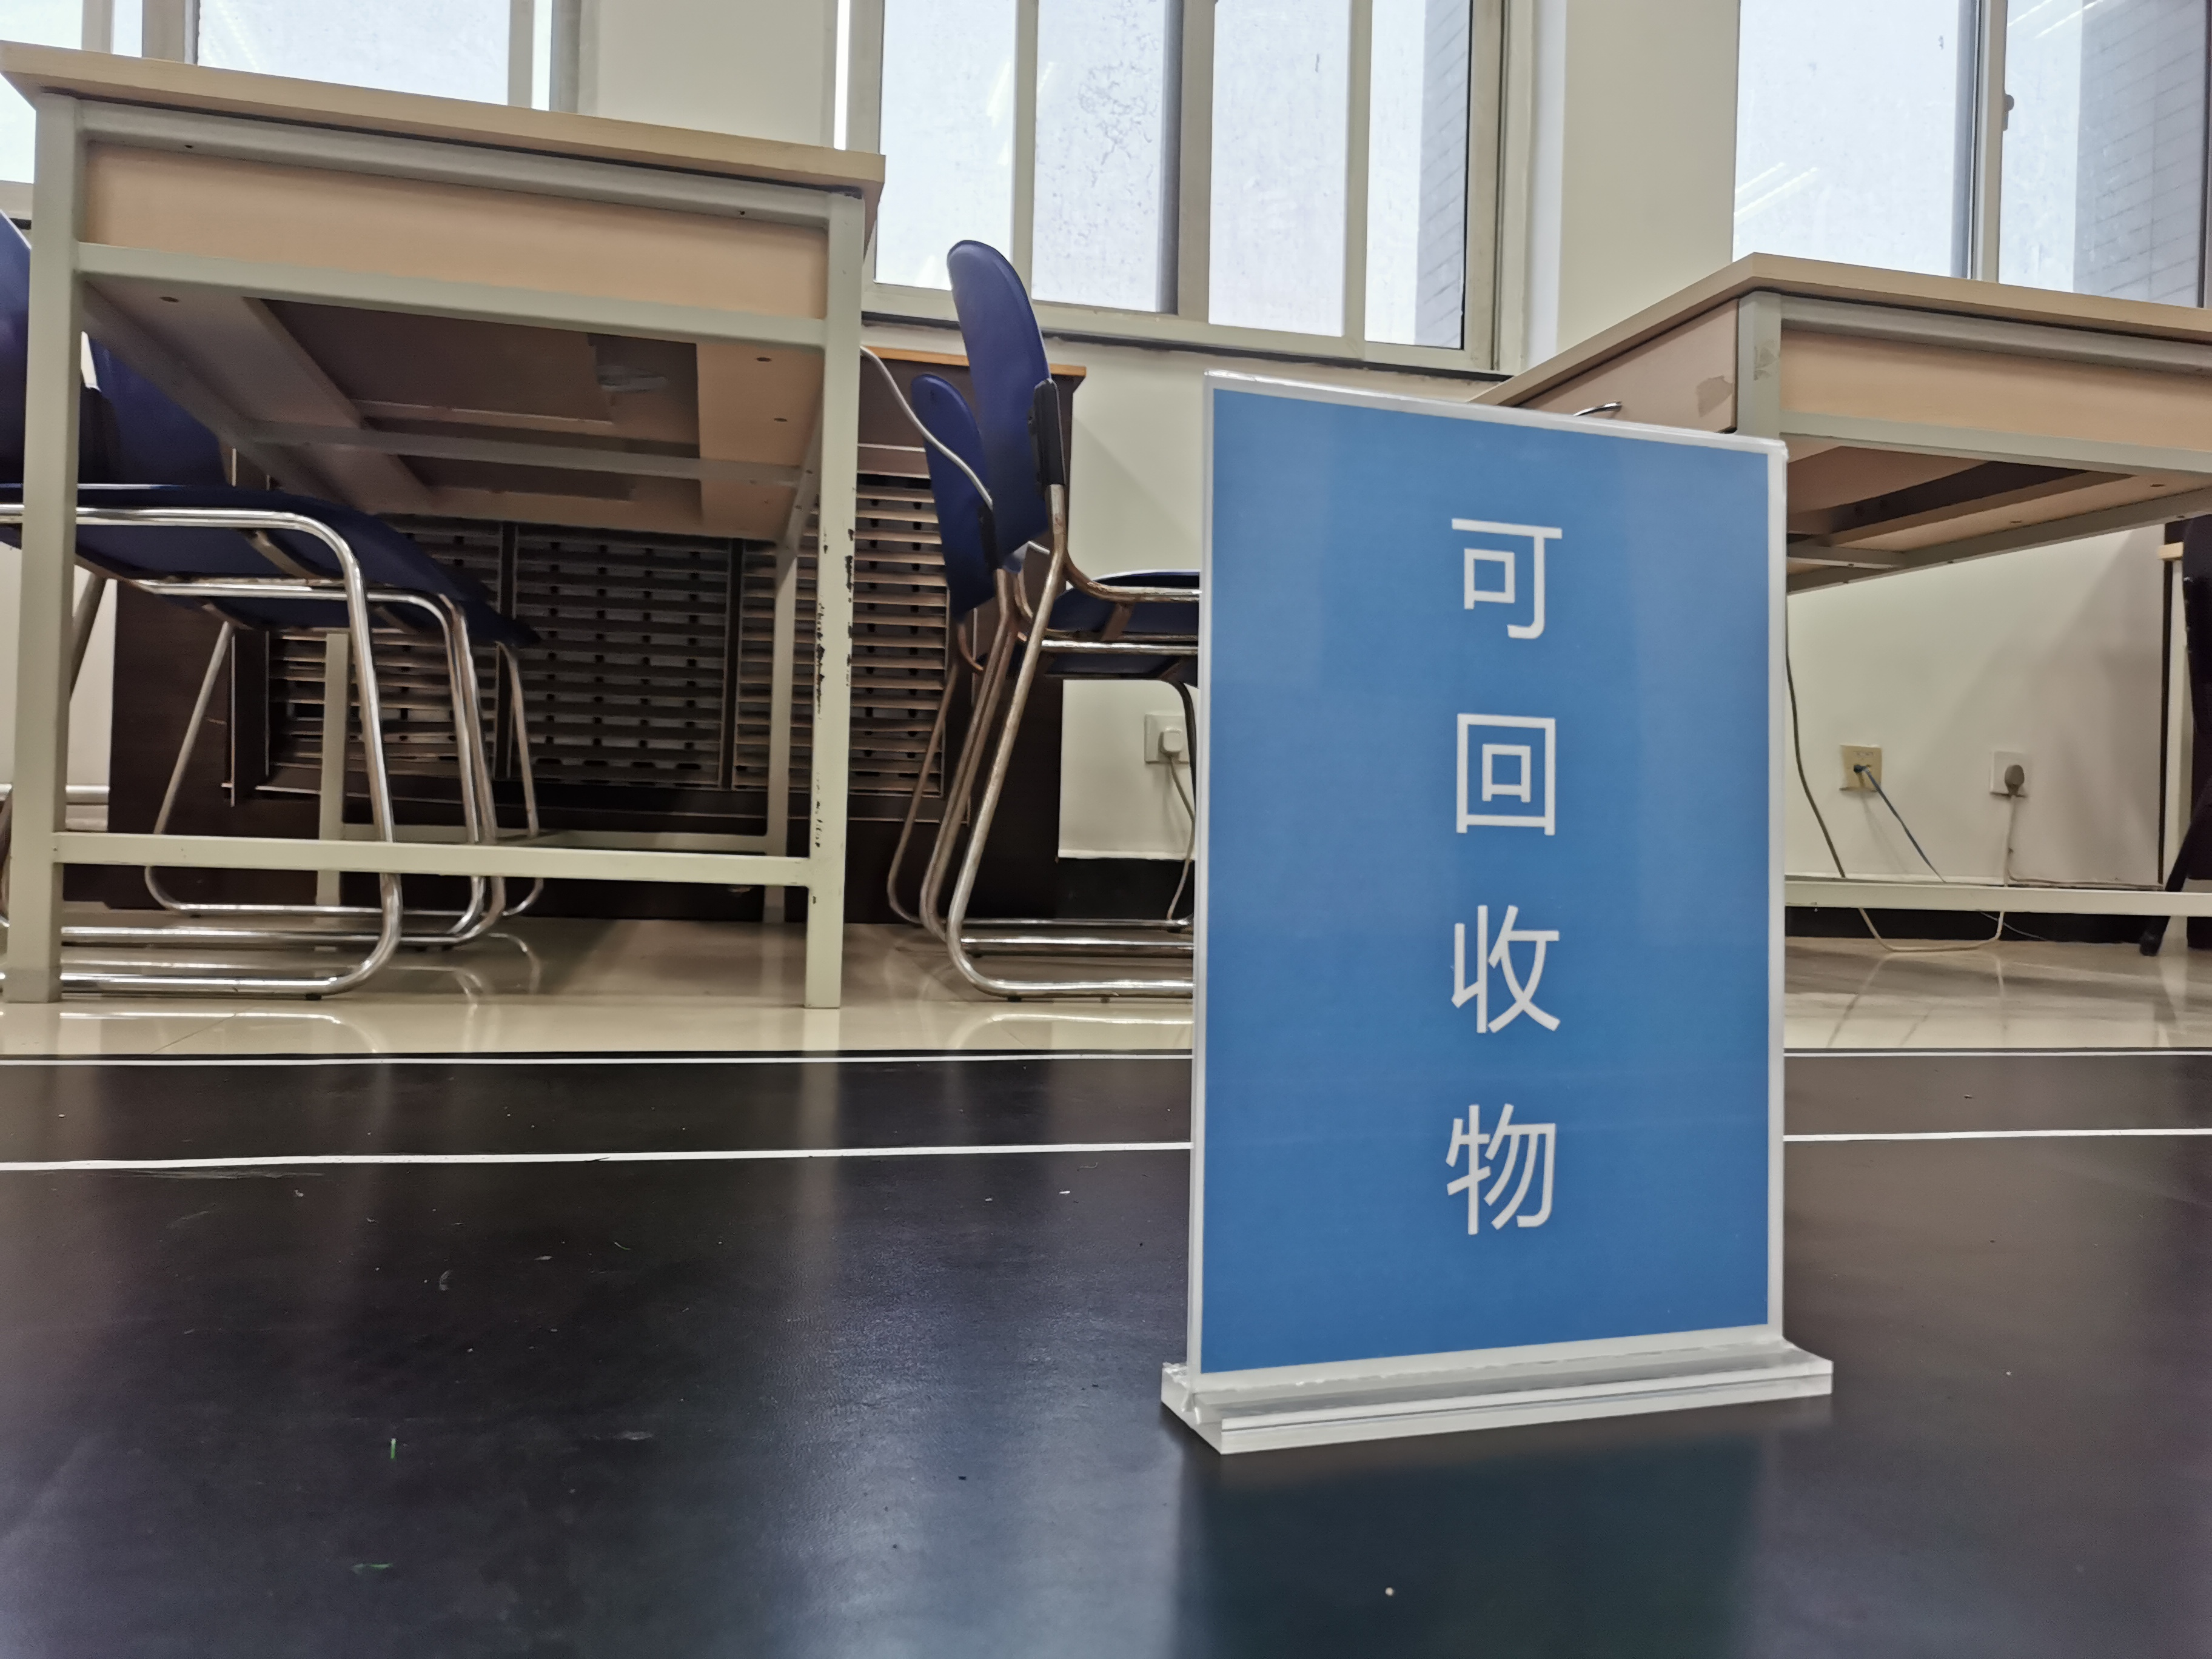blue: (1224, 450, 1763, 1316)
